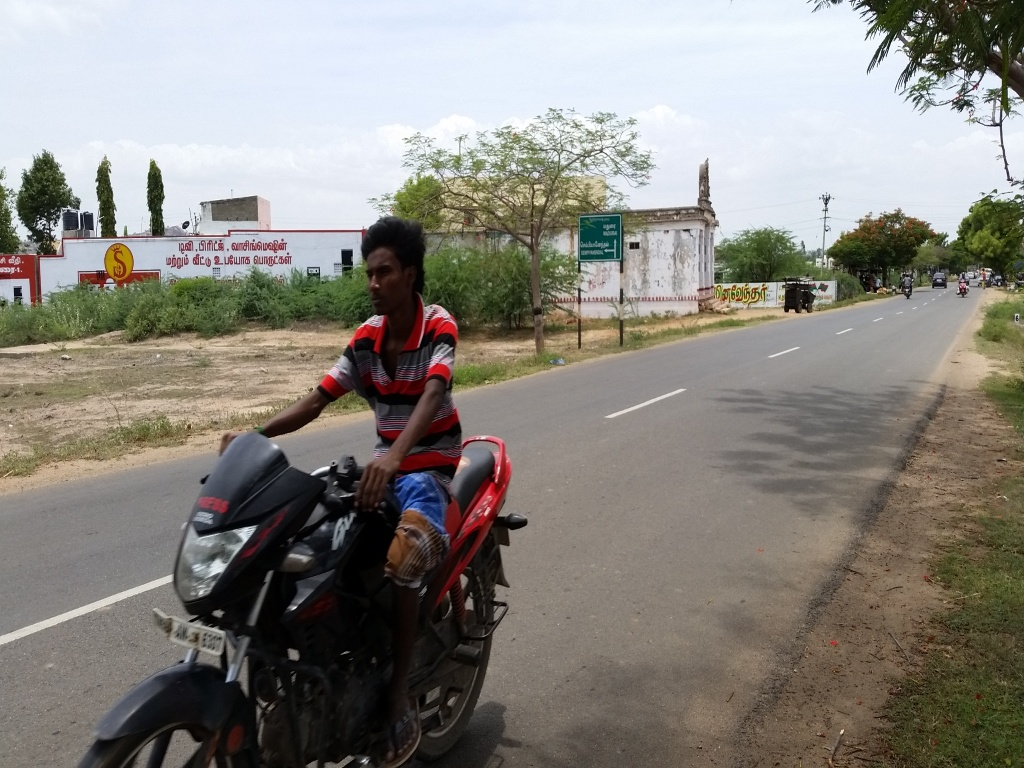biker: (56, 157, 553, 768)
nohelmet: (353, 207, 443, 340)
